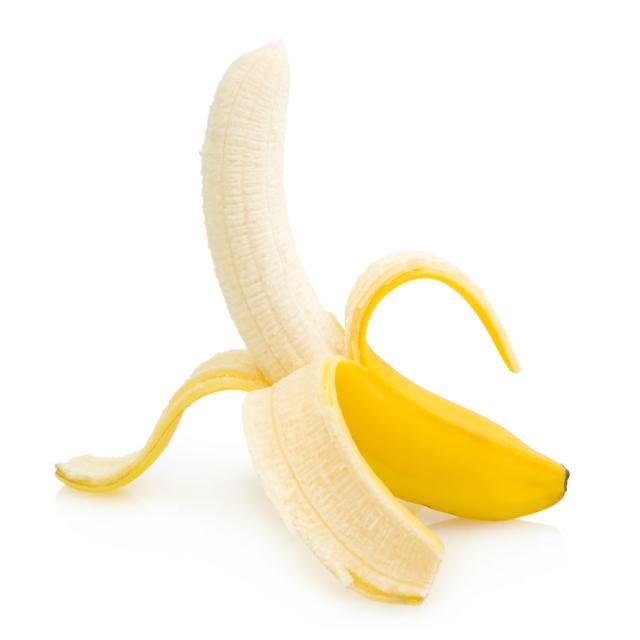banana: (52, 39, 578, 606)
